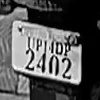0: (48, 55, 60, 78)
1: (42, 39, 47, 54)
2: (60, 56, 74, 82), (25, 48, 36, 72)
4: (36, 53, 48, 75), (48, 40, 54, 54)
D: (53, 40, 64, 56)
P: (62, 42, 72, 57), (35, 38, 42, 53)
U: (24, 34, 36, 50)
